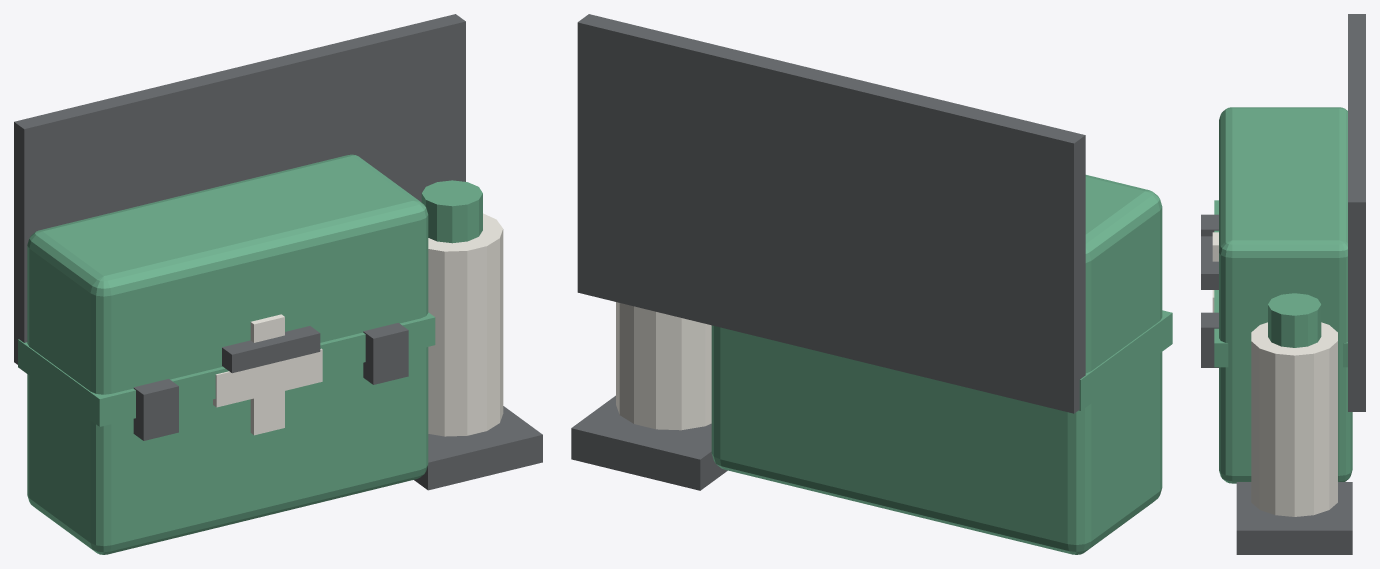
The model's file is car-repair-garage-and-mot-workshop-car-repair-garage-a-75ae4cf8__34040.glb.
3 renders of one model, left to right at view 1: azimuth 30°, elevation 25°; view 2: azimuth 150°, elevation 25°; view 3: azimuth 270°, elevation 25°, orthographic. The views are drawn at different scales.
Parts seen in each view (by area): view 1: car-repair-garage-and-mot-workshop-first-aid-box; view 2: car-repair-garage-and-mot-workshop-first-aid-box; view 3: car-repair-garage-and-mot-workshop-first-aid-box.
Boxes of the visible parts, x1,y1,x2,y2 form: car-repair-garage-and-mot-workshop-first-aid-box: [14, 14, 542, 554]; car-repair-garage-and-mot-workshop-first-aid-box: [571, 14, 1172, 554]; car-repair-garage-and-mot-workshop-first-aid-box: [1201, 14, 1365, 554].
Size of the model in its own units: 0.5162 by 0.43 by 0.185.
